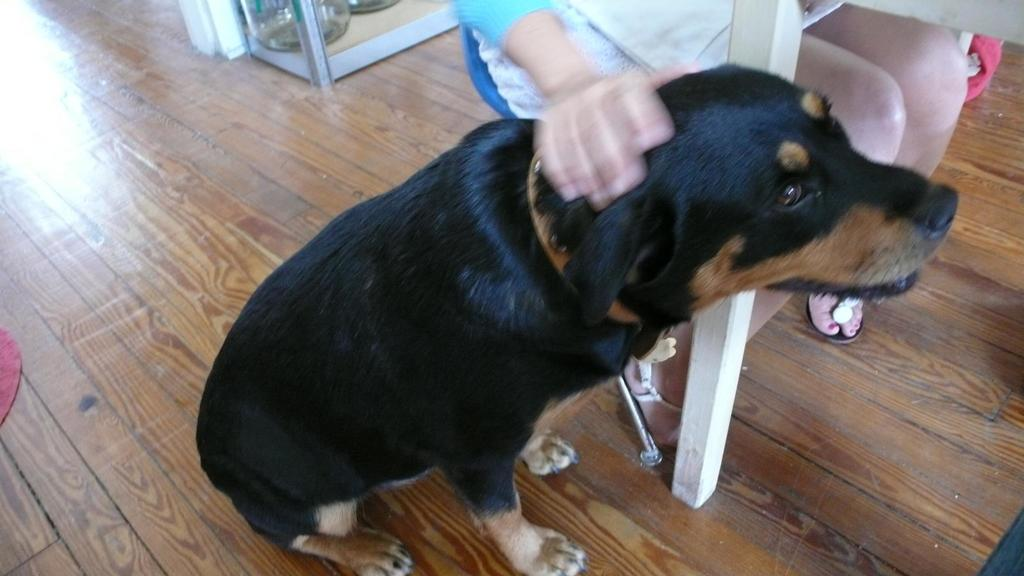Person: (445, 0, 969, 342)
